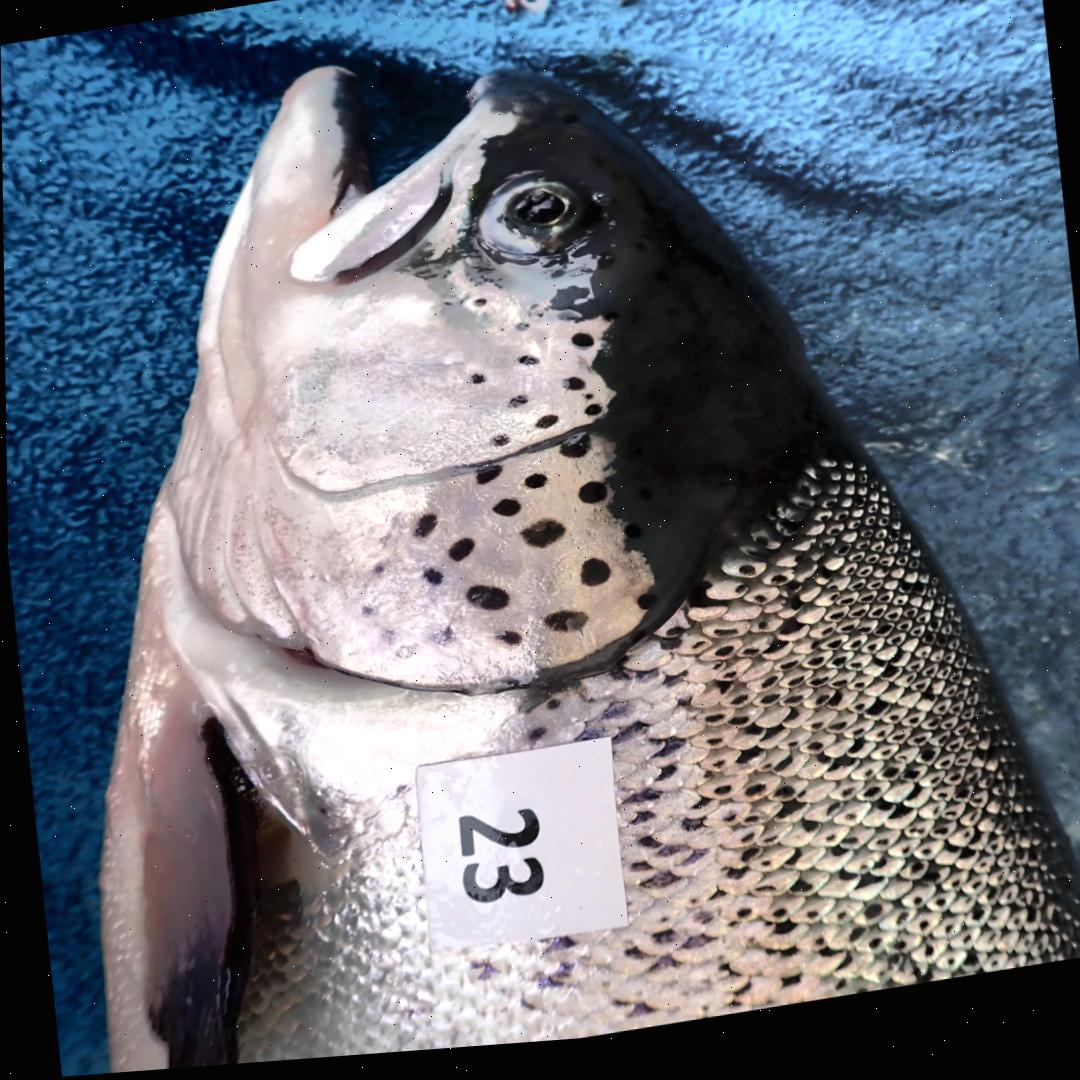spot: (519, 527, 562, 557), (464, 593, 505, 619), (542, 619, 585, 642), (577, 567, 609, 596), (556, 444, 588, 468), (445, 545, 473, 569), (575, 490, 604, 513), (411, 520, 436, 546), (427, 632, 454, 653), (490, 506, 519, 525), (472, 474, 500, 492), (494, 638, 520, 654), (522, 481, 545, 498), (569, 341, 592, 358), (561, 385, 582, 401), (635, 604, 656, 620), (534, 423, 556, 438), (421, 575, 440, 591), (367, 569, 384, 584), (489, 441, 507, 455), (506, 404, 526, 416), (582, 412, 599, 426), (356, 610, 374, 623), (516, 364, 536, 374), (468, 380, 483, 392), (473, 306, 485, 314), (514, 331, 527, 338), (582, 402, 592, 409)
